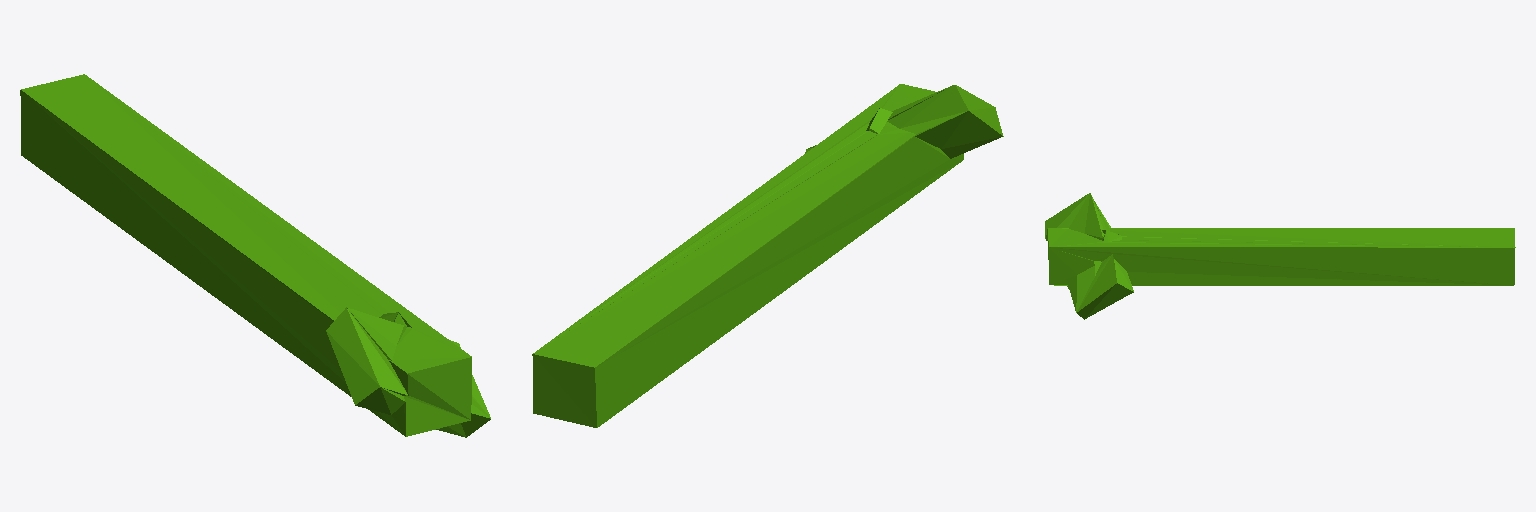
robot.urdf — blob439:

<robot name="blob439">
  <link name="random_obj_439">
    <contact>
      <lateral_friction value="1.0"/>
      <rolling_friction value="0.0"/>
      <inertia_scaling value="3.0"/>
      <contact_cfm value="0.0"/>
      <contact_erp value="1.0"/>
    </contact>
    <inertial>
      <origin rpy="0 0 0" xyz="0 0 0"/>
      <mass value="0.1282"/>
      <inertia ixx="1" ixy="0" ixz="0" iyy="1" iyz="0" izz="0"/>
    </inertial>
    <visual>
      <origin rpy="0 0 0" xyz="0 0 0"/>
      <geometry>
        <mesh filename="439.obj" scale="0.0084 0.0084 0.0084"/>
      </geometry>
      <material name="blockmat">
        <color rgba="0.38 0.69 0.11 1"/>
      </material>
    </visual>
    <collision>
      <origin rpy="0 0 0" xyz="0 0 0"/>
      <geometry>
        <mesh filename="439_coll.obj" scale="0.0084 0.0084 0.0084"/>
      </geometry>
    </collision>
  </link>
</robot>

--- Facts derived from the render (not from the file) ---
Views: 3 orthographic renders of the robot side by side, from view 1: azimuth 30°, elevation 25°; view 2: azimuth 150°, elevation 25°; view 3: azimuth 270°, elevation 25°.
Robot: blob439 — 1 links, 0 joints (none); root link random_obj_439; default pose: all joints at 0.
Links seen in each view (by area): view 1: random_obj_439; view 2: random_obj_439; view 3: random_obj_439.
Boxes of the visible links, x1=… form: random_obj_439: x1=20, y1=74, x2=490, y2=437; random_obj_439: x1=532, y1=84, x2=1003, y2=427; random_obj_439: x1=1045, y1=193, x2=1515, y2=319.
Bounding box of the posed robot: 0.0235 × 0.1018 × 0.0223 m (x, y, z).
Meshes: 1 distinct files referenced, 1 mesh visuals loaded (1 OBJ).
